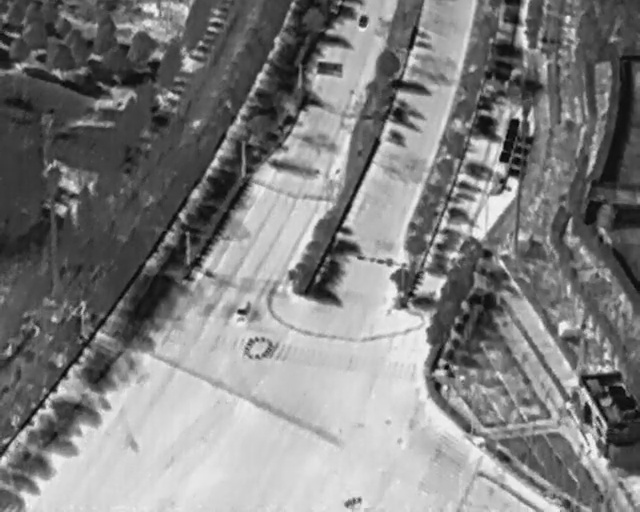Car: (236, 301, 251, 322), (359, 14, 368, 28)
